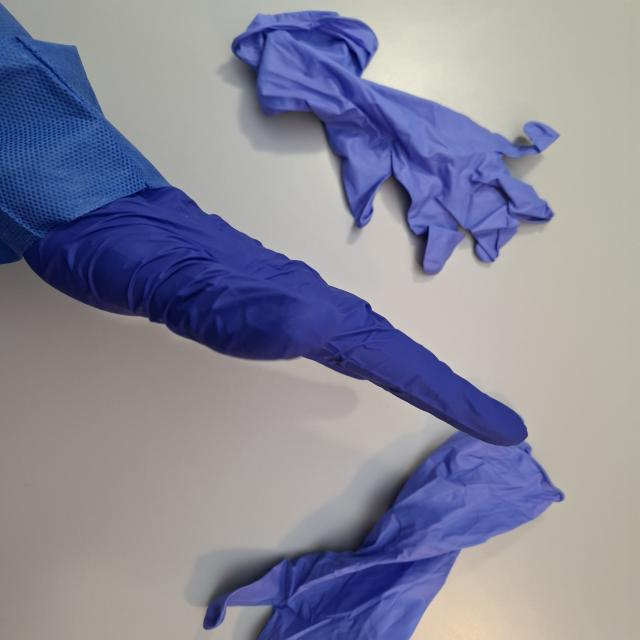glove_on: (20, 180, 532, 449)
